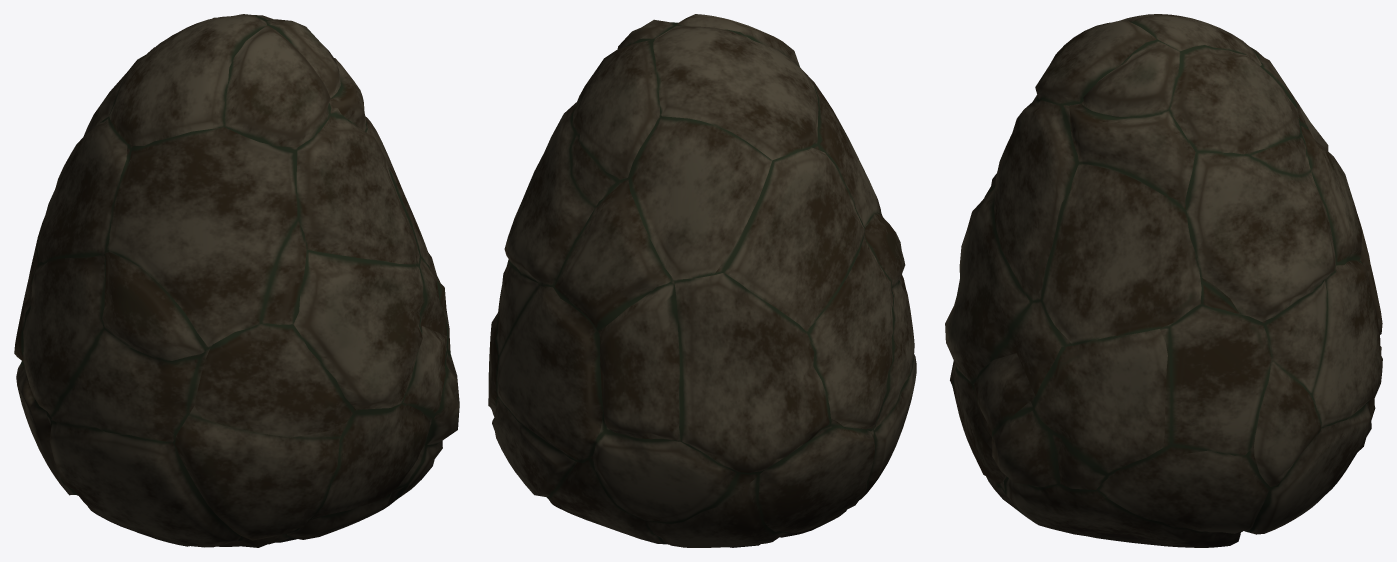
File: Rock_Egg.fbx
The picture shows the model from 3 angles, left to right: view 1: azimuth 30°, elevation 25°; view 2: azimuth 150°, elevation 25°; view 3: azimuth 270°, elevation 25°; orthographic projection.
Parts seen in each view (by area): view 1: Egg_Rock; view 2: Egg_Rock; view 3: Egg_Rock.
Boxes of the visible parts, left/top/right/bottom form: Egg_Rock: left=14, top=14, right=459, bottom=547; Egg_Rock: left=488, top=14, right=916, bottom=547; Egg_Rock: left=945, top=14, right=1382, bottom=547.
Size of the model in its own units: 148 by 188 by 151.
